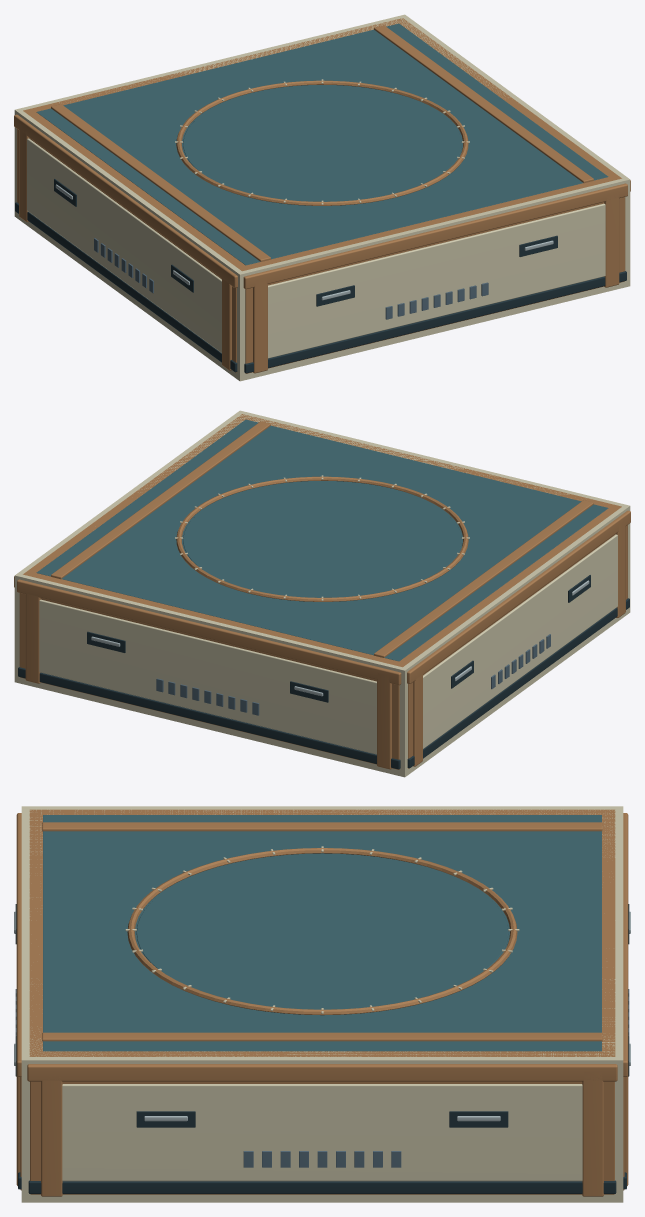
The model's file is caldera-spectrometer.glb.
The picture shows the model from 3 angles, top to bottom: view 1: azimuth 30°, elevation 25°; view 2: azimuth 150°, elevation 25°; view 3: azimuth 270°, elevation 25°; orthographic projection. The views are drawn at different scales.
Parts seen in each view (by area): view 1: OB17 / caldera-spectrometer; view 2: OB17 / caldera-spectrometer; view 3: OB17 / caldera-spectrometer.
Part boxes in pixels (left/top/right/bottom): OB17 / caldera-spectrometer: left=14, top=14, right=630, bottom=381; OB17 / caldera-spectrometer: left=14, top=410, right=630, bottom=777; OB17 / caldera-spectrometer: left=14, top=806, right=630, bottom=1202.
Size of the model in its own units: 4.51 by 1.19 by 4.51.
